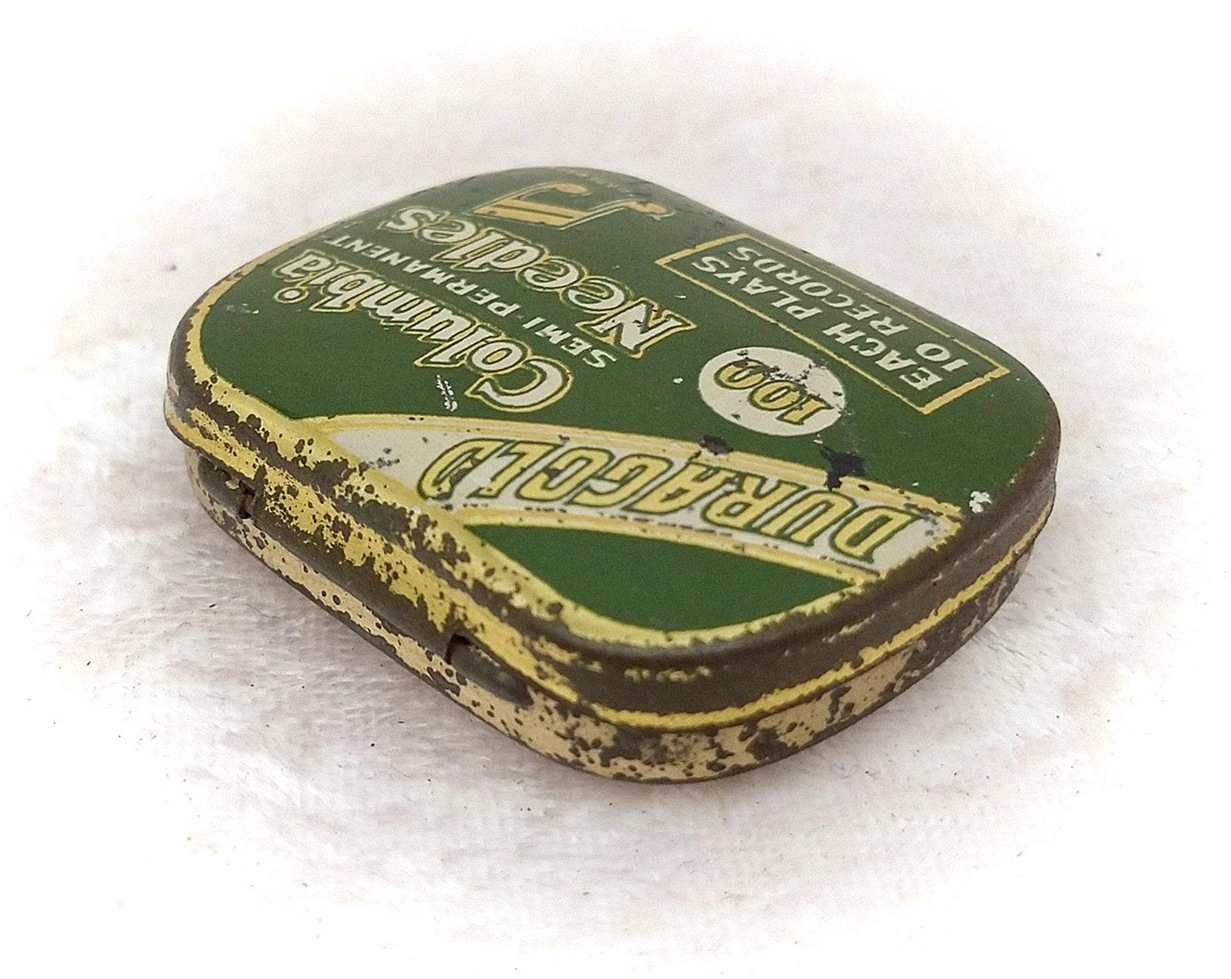metal: (164, 165, 1061, 781)
